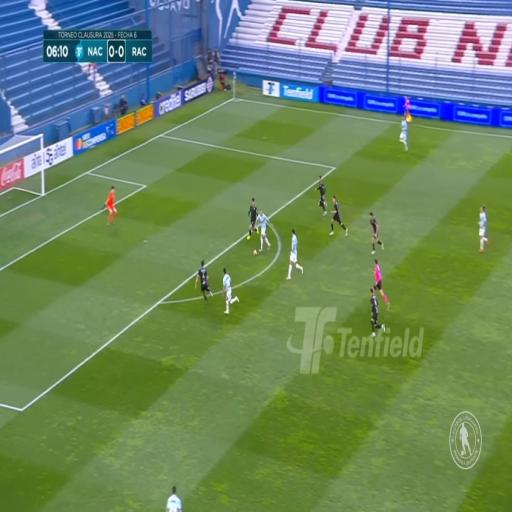Ball: (253, 248, 257, 257)
Goalkeeper: (104, 185, 117, 227)
Player: (478, 204, 489, 255), (369, 286, 380, 336), (224, 269, 236, 312), (288, 229, 298, 277), (198, 258, 209, 299), (369, 209, 380, 249), (259, 211, 269, 248), (318, 171, 326, 212), (331, 198, 341, 229), (248, 198, 256, 236), (400, 116, 408, 150)
Referee: (374, 258, 386, 308), (404, 98, 411, 126)
